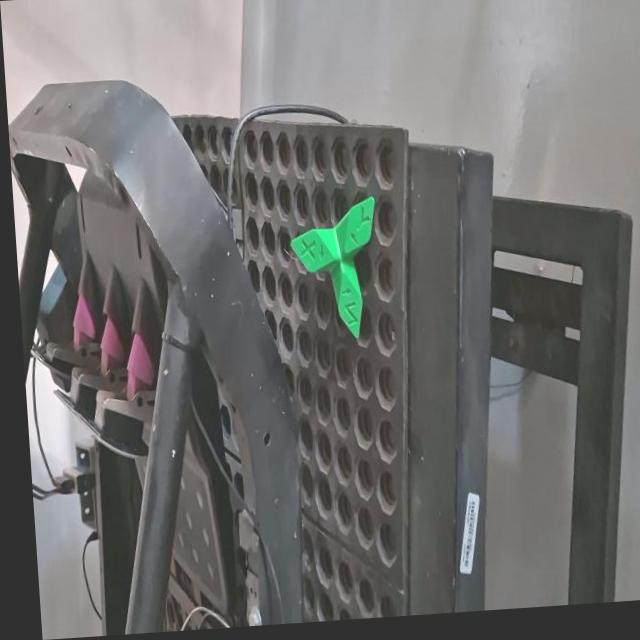eje: (287, 194, 385, 343)
